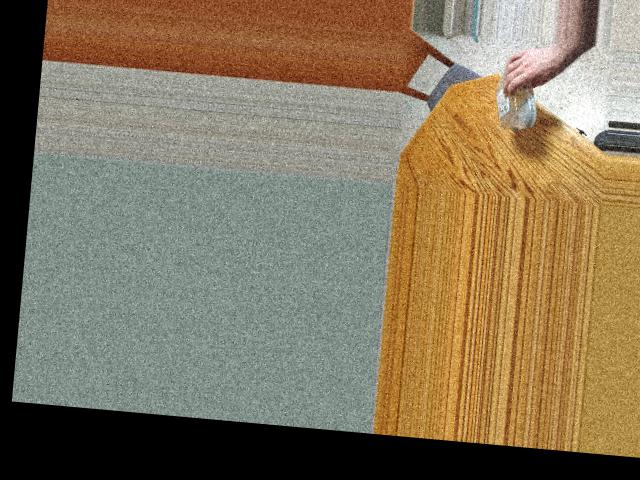cheese: (493, 62, 545, 119)
